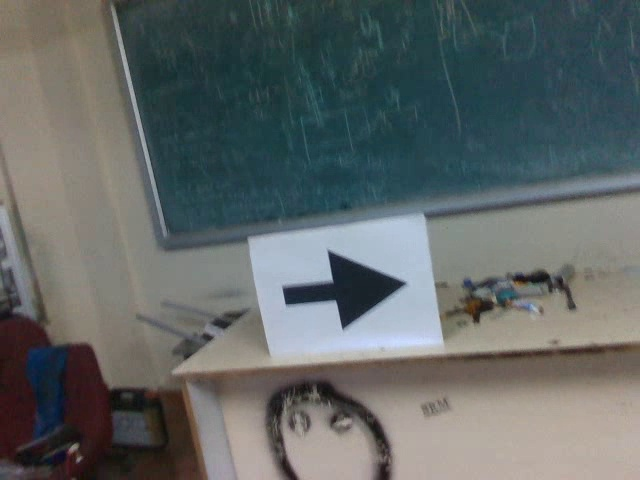Right: (269, 241, 411, 334)
